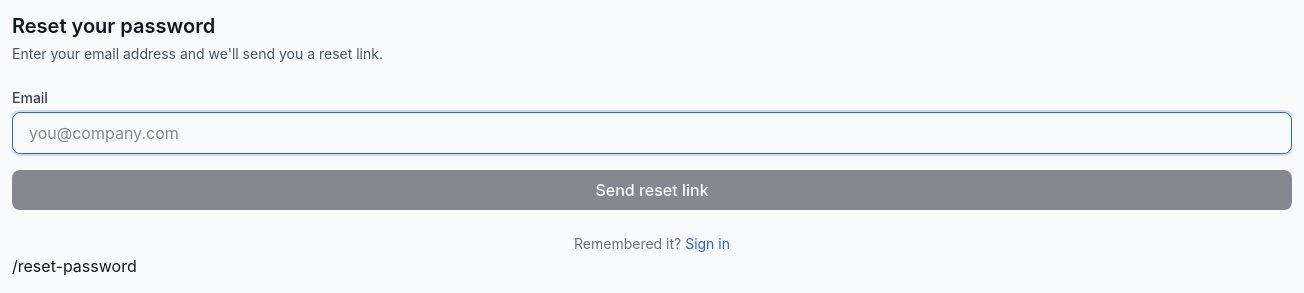
Scenario: ResetPassword › requests a reset link when no token is present
The image size is (1304, 293).
Type "user@example.com" into the field labelled "Email".
click(652, 133); type("user@example.com")  # box [12,112,1292,154]
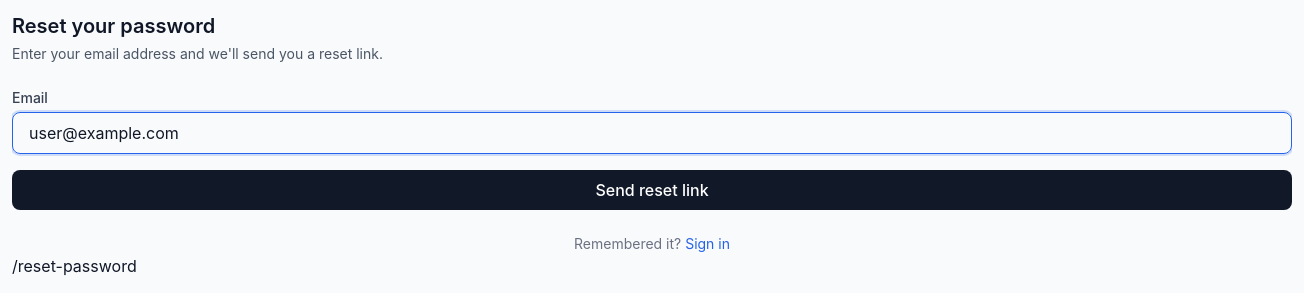
Click the button "Send reset link".
click(652, 190)  # box [12,170,1292,210]
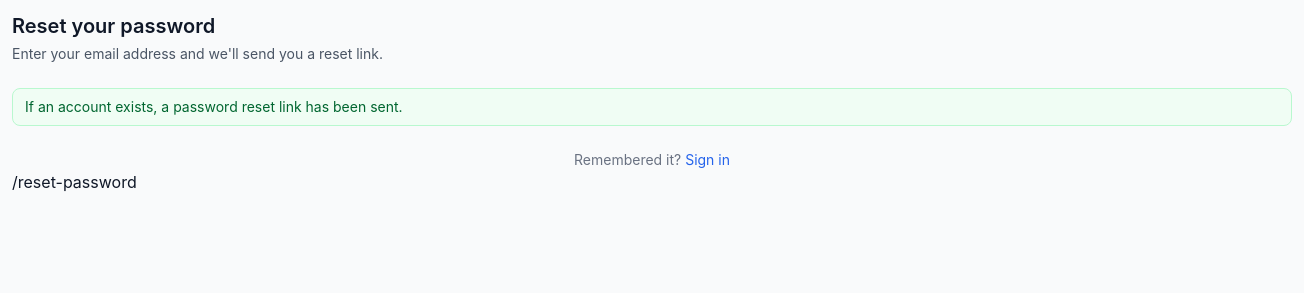
Now the text "If an account exists, a password reset link has been sent." is shown, box [12,88,1292,126]
